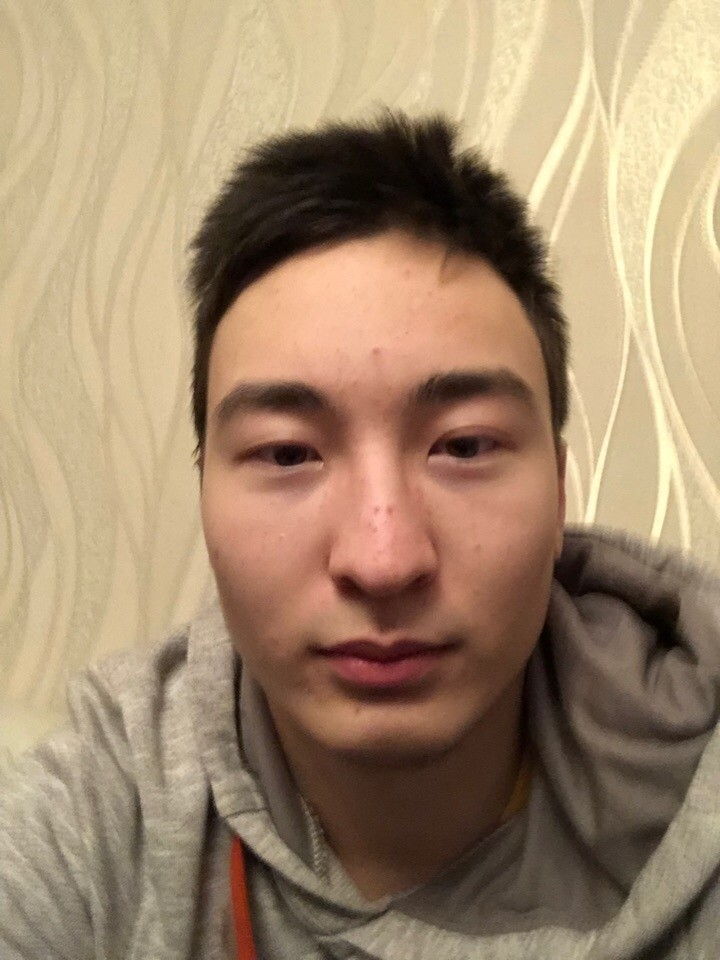face_no_mask: (192, 136, 567, 757)
